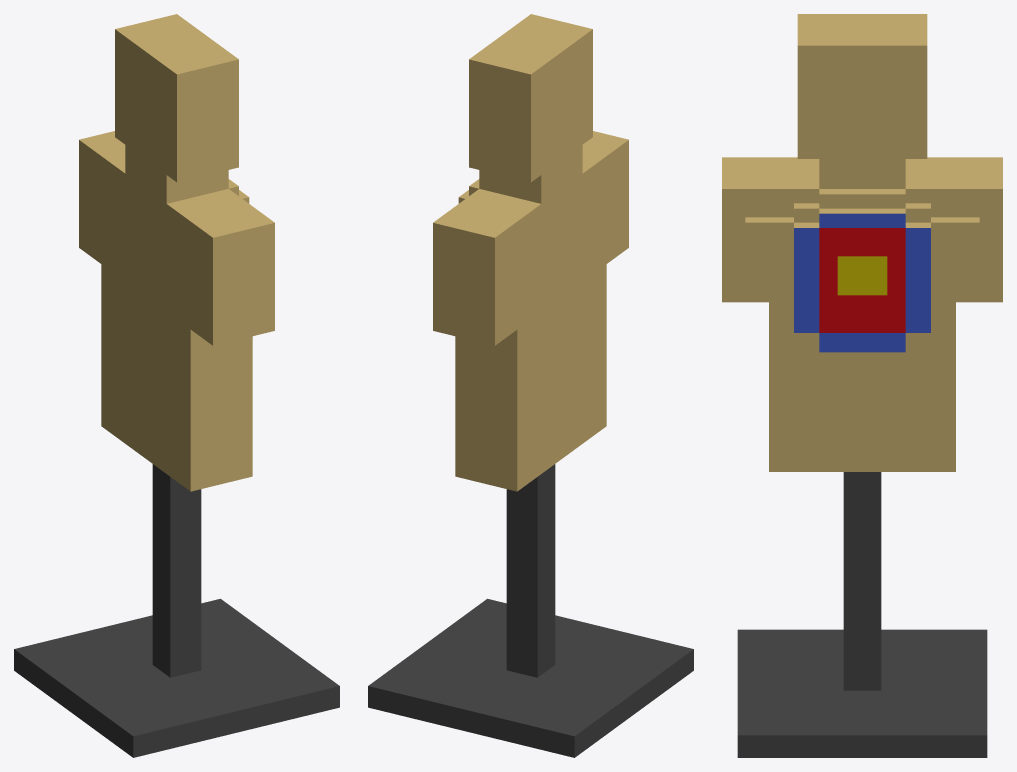
File: shootingTarget.fbx
The picture shows the model from 3 angles, left to right: view 1: azimuth 30°, elevation 25°; view 2: azimuth 150°, elevation 25°; view 3: azimuth 270°, elevation 25°; orthographic projection. The views are drawn at different scales.
Parts seen in each view (by area): view 1: Cube; view 2: Cube; view 3: Cube.
Boxes of the visible parts, x1,y1,x2,y2 form: Cube: [14, 14, 339, 757]; Cube: [368, 14, 693, 757]; Cube: [722, 14, 1002, 757].
Size of the model in its own units: 80 by 239 by 90.
